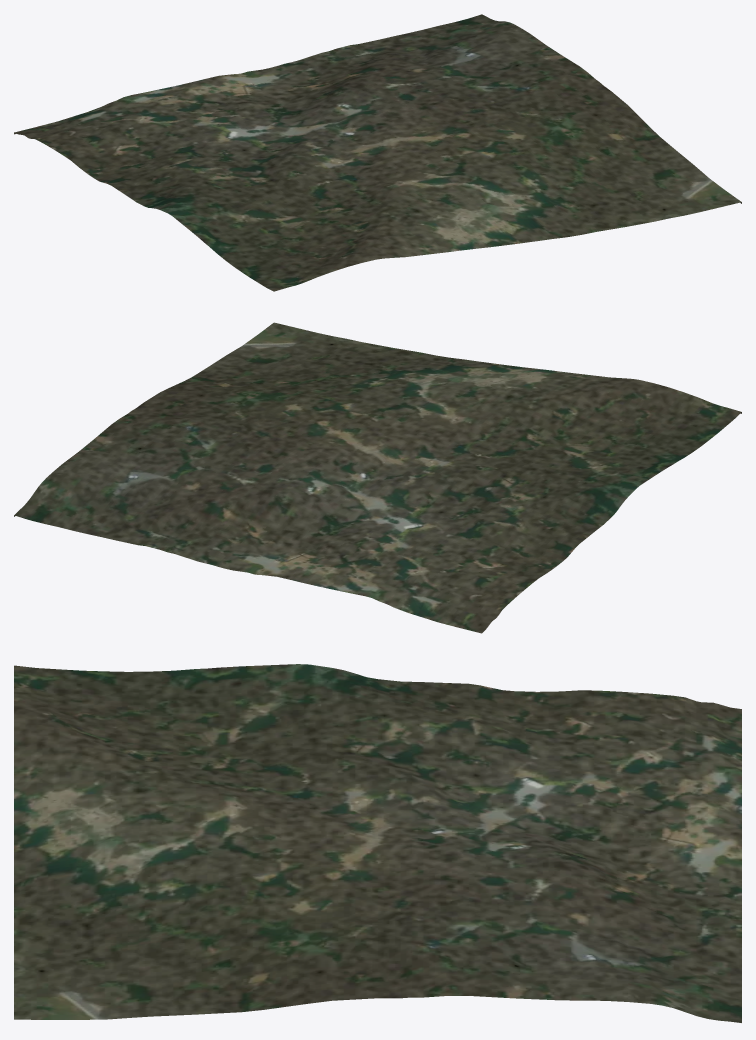
3 views of the same model, one above another, from view 1: azimuth 30°, elevation 25°; view 2: azimuth 150°, elevation 25°; view 3: azimuth 270°, elevation 25° (orthographic). The views are drawn at different scales.
Size of the model in its own units: 250 by 20.82 by 241.
1 material, 1 textured.
